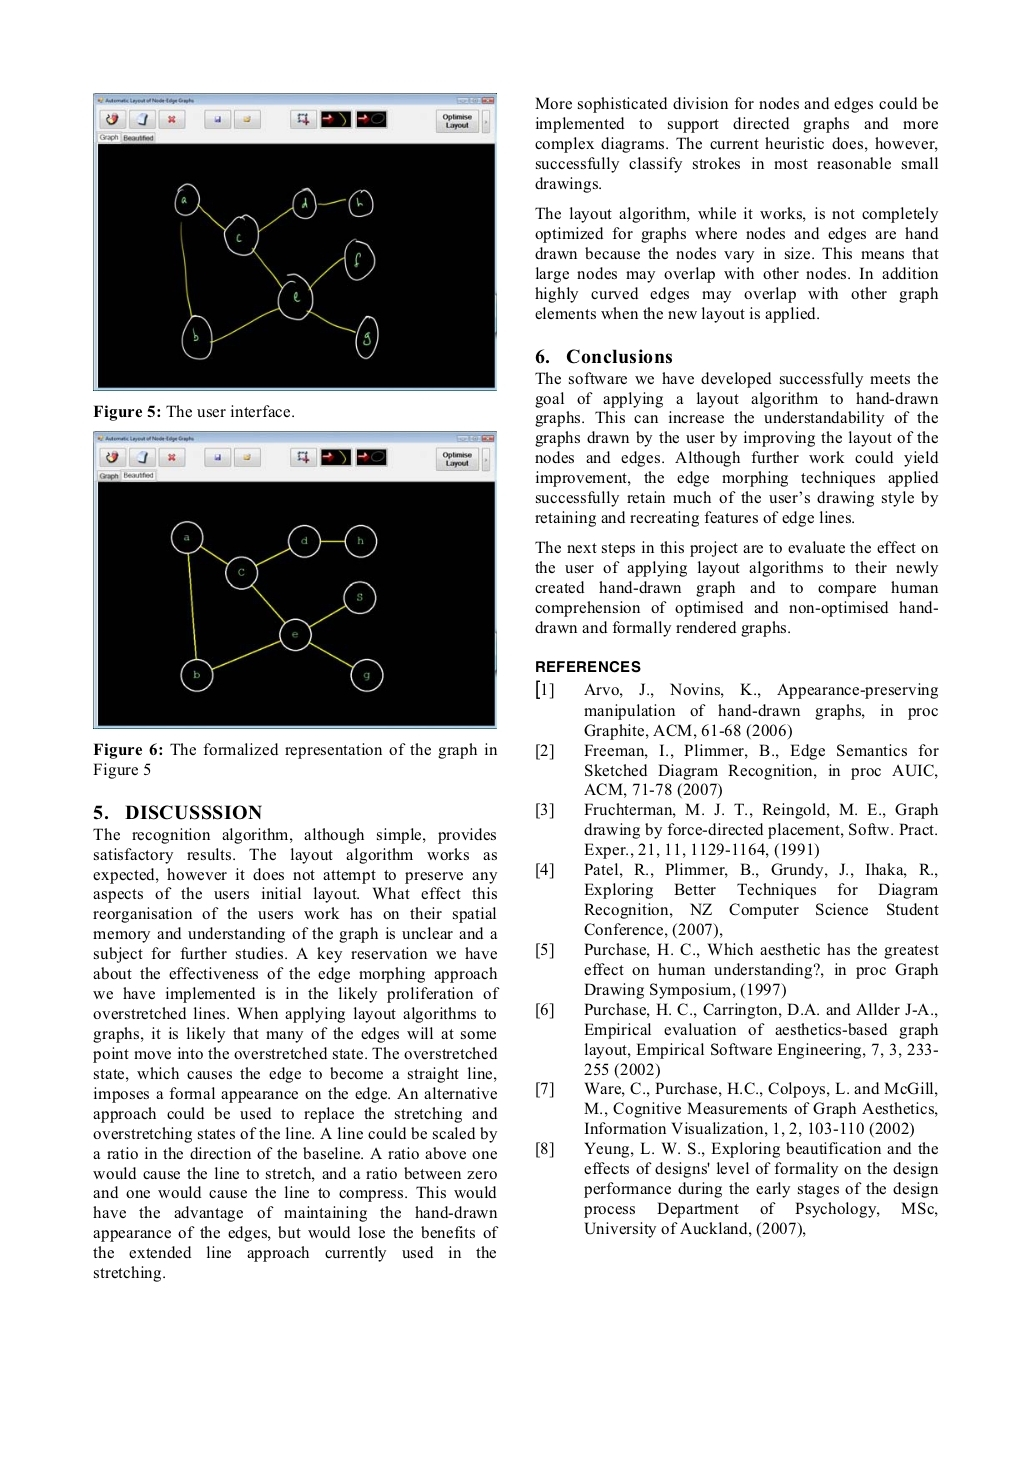figure: (93, 92, 496, 391), (93, 430, 496, 729)
